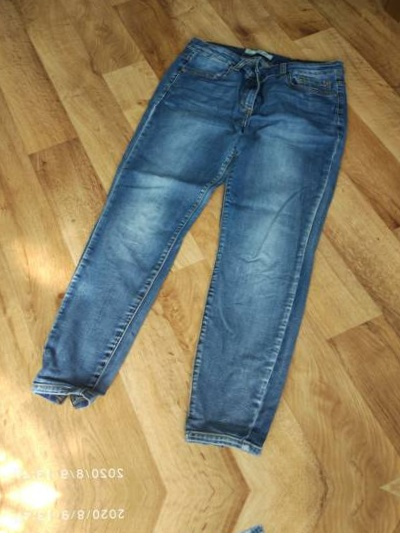Pants: (23, 13, 374, 440)
